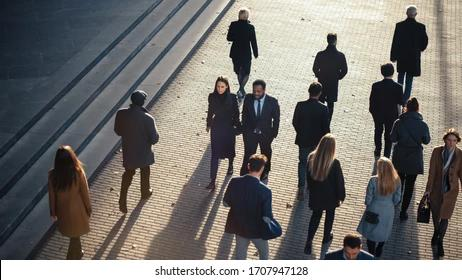coat: (46, 166, 93, 237), (356, 175, 402, 242), (114, 103, 160, 168), (425, 145, 462, 219), (390, 111, 431, 174), (389, 17, 428, 77), (206, 91, 240, 156), (312, 45, 348, 104), (226, 18, 260, 61)
jacket: (222, 174, 281, 241), (291, 98, 331, 152), (241, 91, 280, 144)
long sleeve shirt: (253, 94, 266, 135)
trousers: (239, 134, 274, 176), (391, 171, 420, 214), (119, 166, 150, 202), (297, 148, 320, 196), (307, 206, 336, 243), (234, 232, 270, 260), (430, 210, 449, 259), (374, 119, 392, 157), (209, 154, 233, 177), (397, 73, 414, 103), (66, 235, 83, 260), (367, 235, 384, 259)
